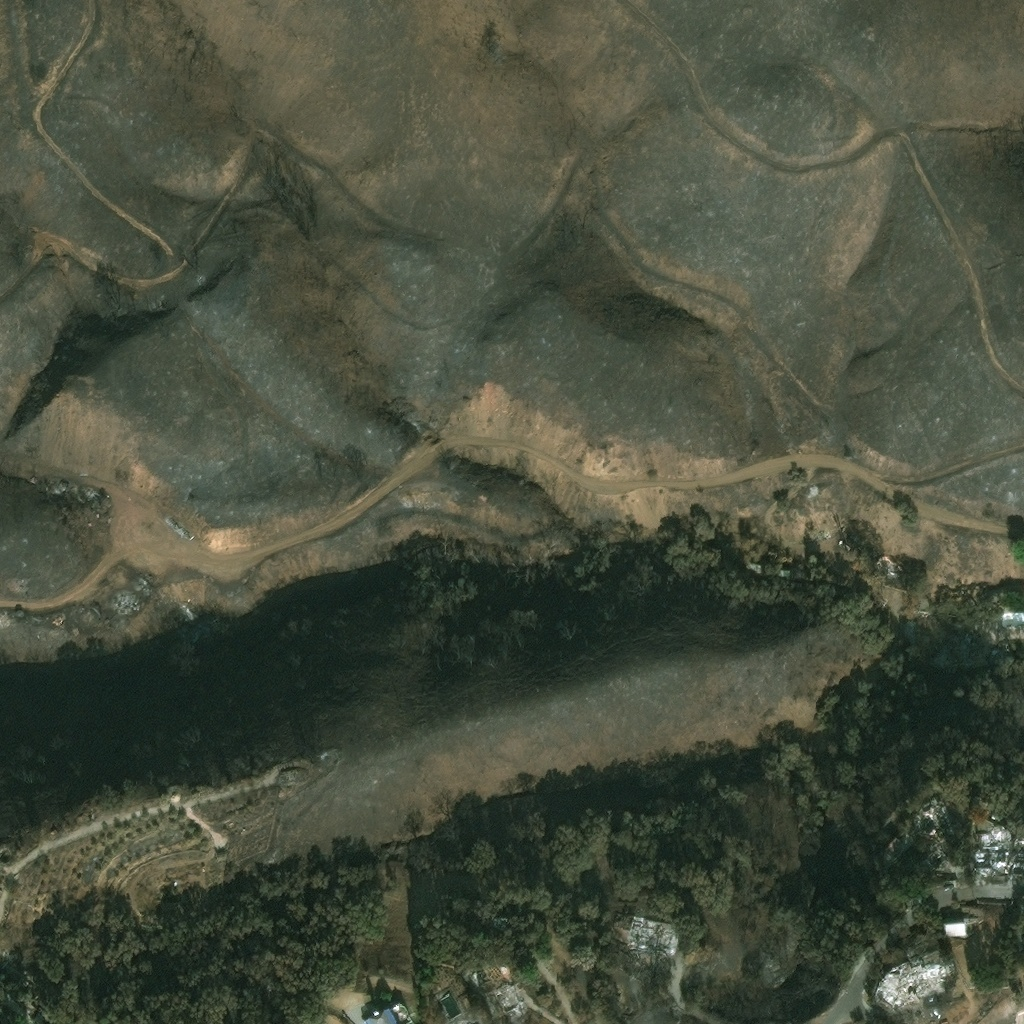0 no-damage: (748, 561, 791, 575), (362, 1007, 397, 1023), (388, 1000, 411, 1023), (939, 921, 966, 937)
2 major-damage: (492, 983, 518, 1008), (469, 967, 486, 985)
3 destroyed: (868, 958, 943, 1005), (627, 920, 672, 949), (970, 829, 1004, 866), (913, 801, 948, 827), (165, 513, 193, 540), (807, 524, 829, 542), (1009, 835, 1023, 862), (120, 591, 136, 606), (279, 767, 295, 782), (612, 910, 626, 926)
4 un-classified: (957, 628, 984, 656), (932, 646, 962, 671), (880, 834, 906, 859), (26, 1009, 43, 1023), (0, 948, 14, 964), (808, 1014, 821, 1023)
